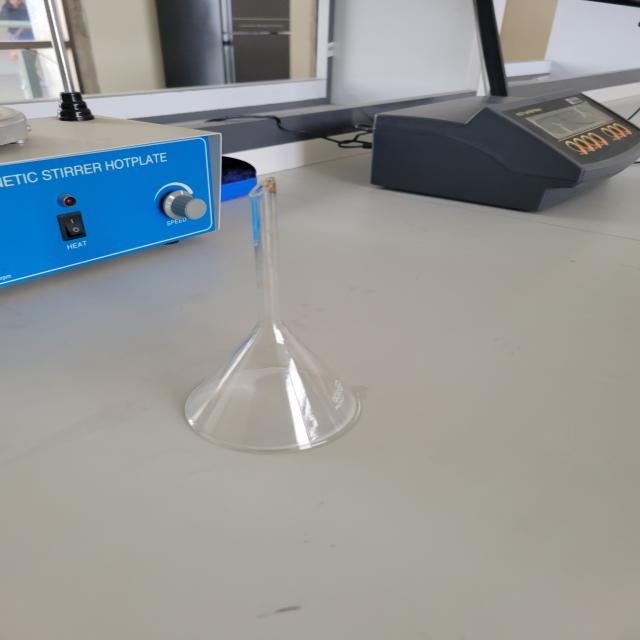Funnel: (161, 160, 379, 478)
